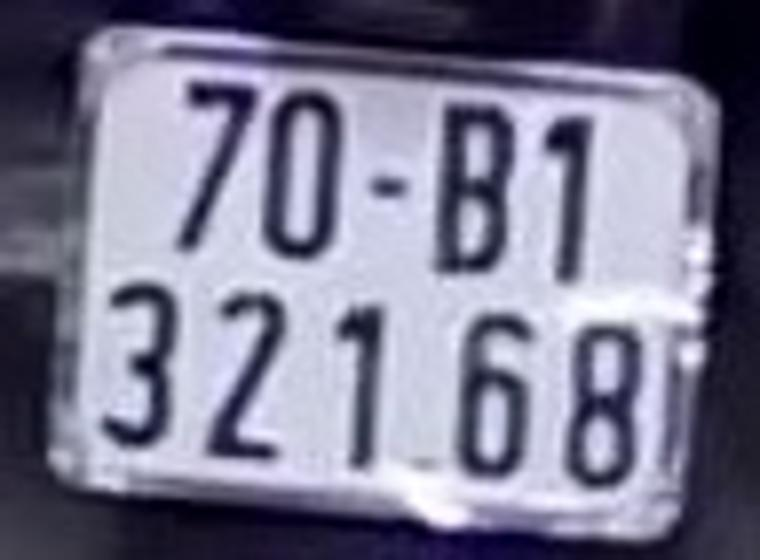-: (366, 162, 422, 208)
.: (410, 439, 446, 490)
0: (266, 79, 357, 268)
1: (543, 101, 602, 312), (336, 297, 386, 467)
2: (210, 287, 297, 462)
3: (106, 272, 176, 449)
6: (461, 311, 534, 484)
7: (176, 78, 257, 259)
8: (571, 322, 643, 489)
B: (433, 91, 514, 288)
